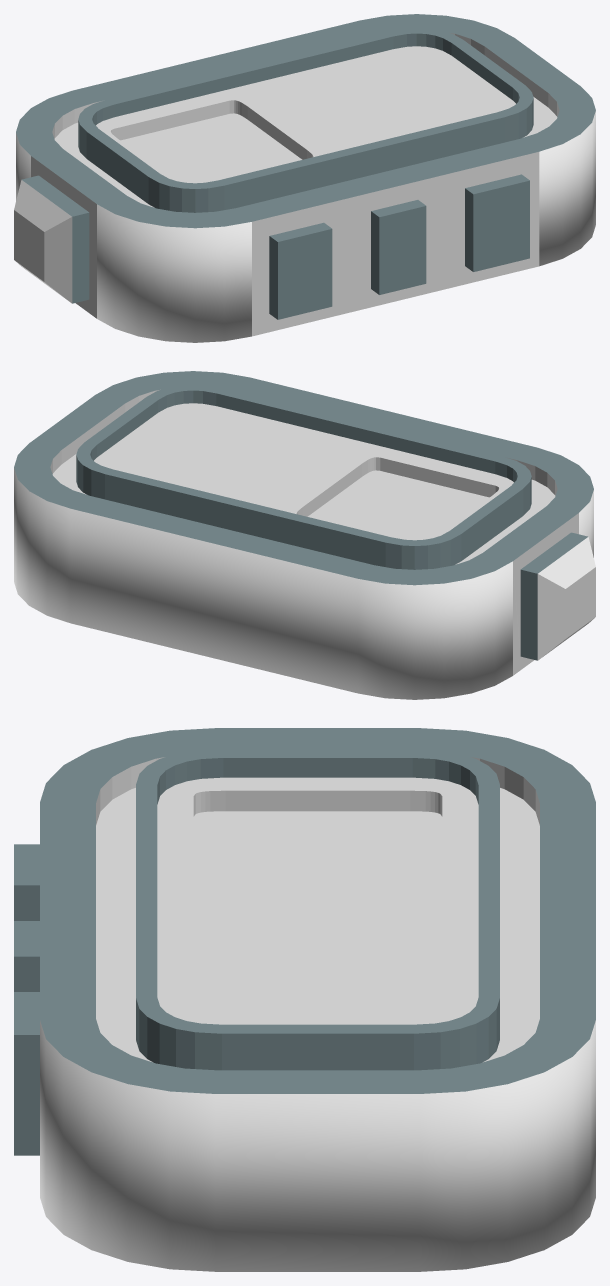
The model's file is flashllight_battery.fbx.
3 views of the same model, one above another, from view 1: azimuth 30°, elevation 25°; view 2: azimuth 150°, elevation 25°; view 3: azimuth 270°, elevation 25° (orthographic). The views are drawn at different scales.
Parts seen in each view (by area): view 1: flashlight_battery; view 2: flashlight_battery; view 3: flashlight_battery.
Boxes of the visible parts, left/top/right/bottom form: flashlight_battery: left=14, top=14, right=595, bottom=342; flashlight_battery: left=14, top=371, right=595, bottom=699; flashlight_battery: left=14, top=728, right=595, bottom=1271.
Bounding box in the file's own units: 13.03 × 3.06 × 8.17.
